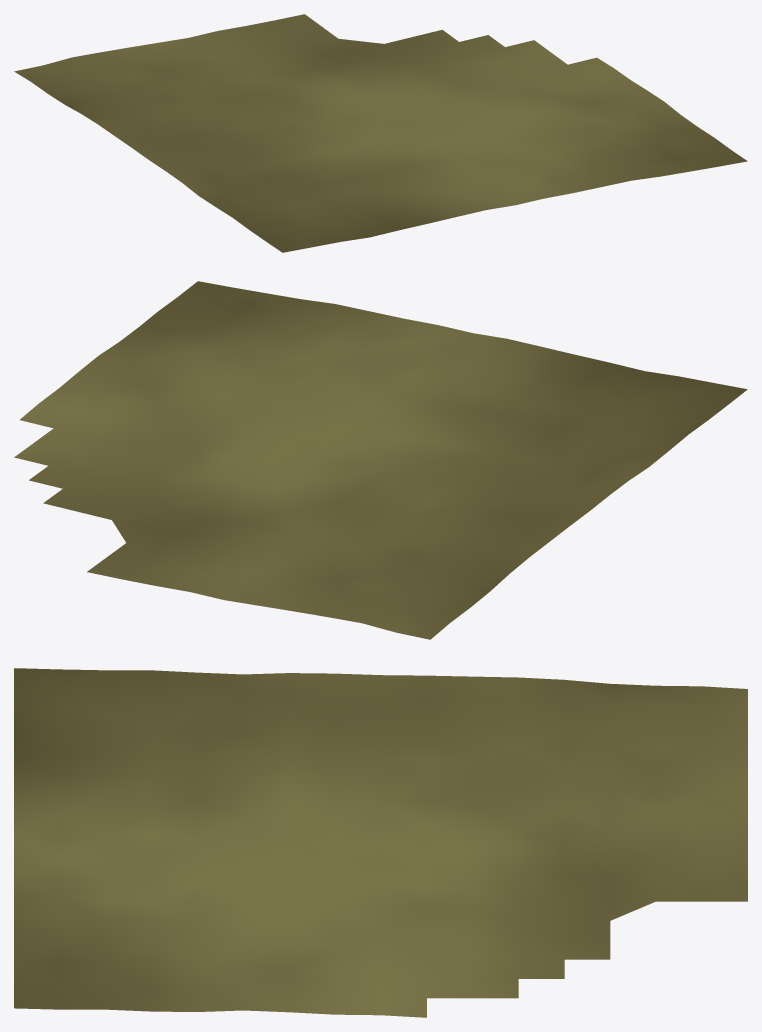
The model's file is terrain_lod1_5_-1.obj.
3 renders of one model, top to bottom at view 1: azimuth 30°, elevation 25°; view 2: azimuth 150°, elevation 25°; view 3: azimuth 270°, elevation 25°, orthographic. The views are drawn at different scales.
Visible parts, largest first — view 1: terrain_lod1_5_-1; view 2: terrain_lod1_5_-1; view 3: terrain_lod1_5_-1.
Part boxes in pixels (left/top/right/bottom): terrain_lod1_5_-1: left=14, top=14, right=747, bottom=252; terrain_lod1_5_-1: left=14, top=281, right=747, bottom=639; terrain_lod1_5_-1: left=14, top=668, right=747, bottom=1017.
Bounding box in the file's own units: 128 × 7.6 × 128.
